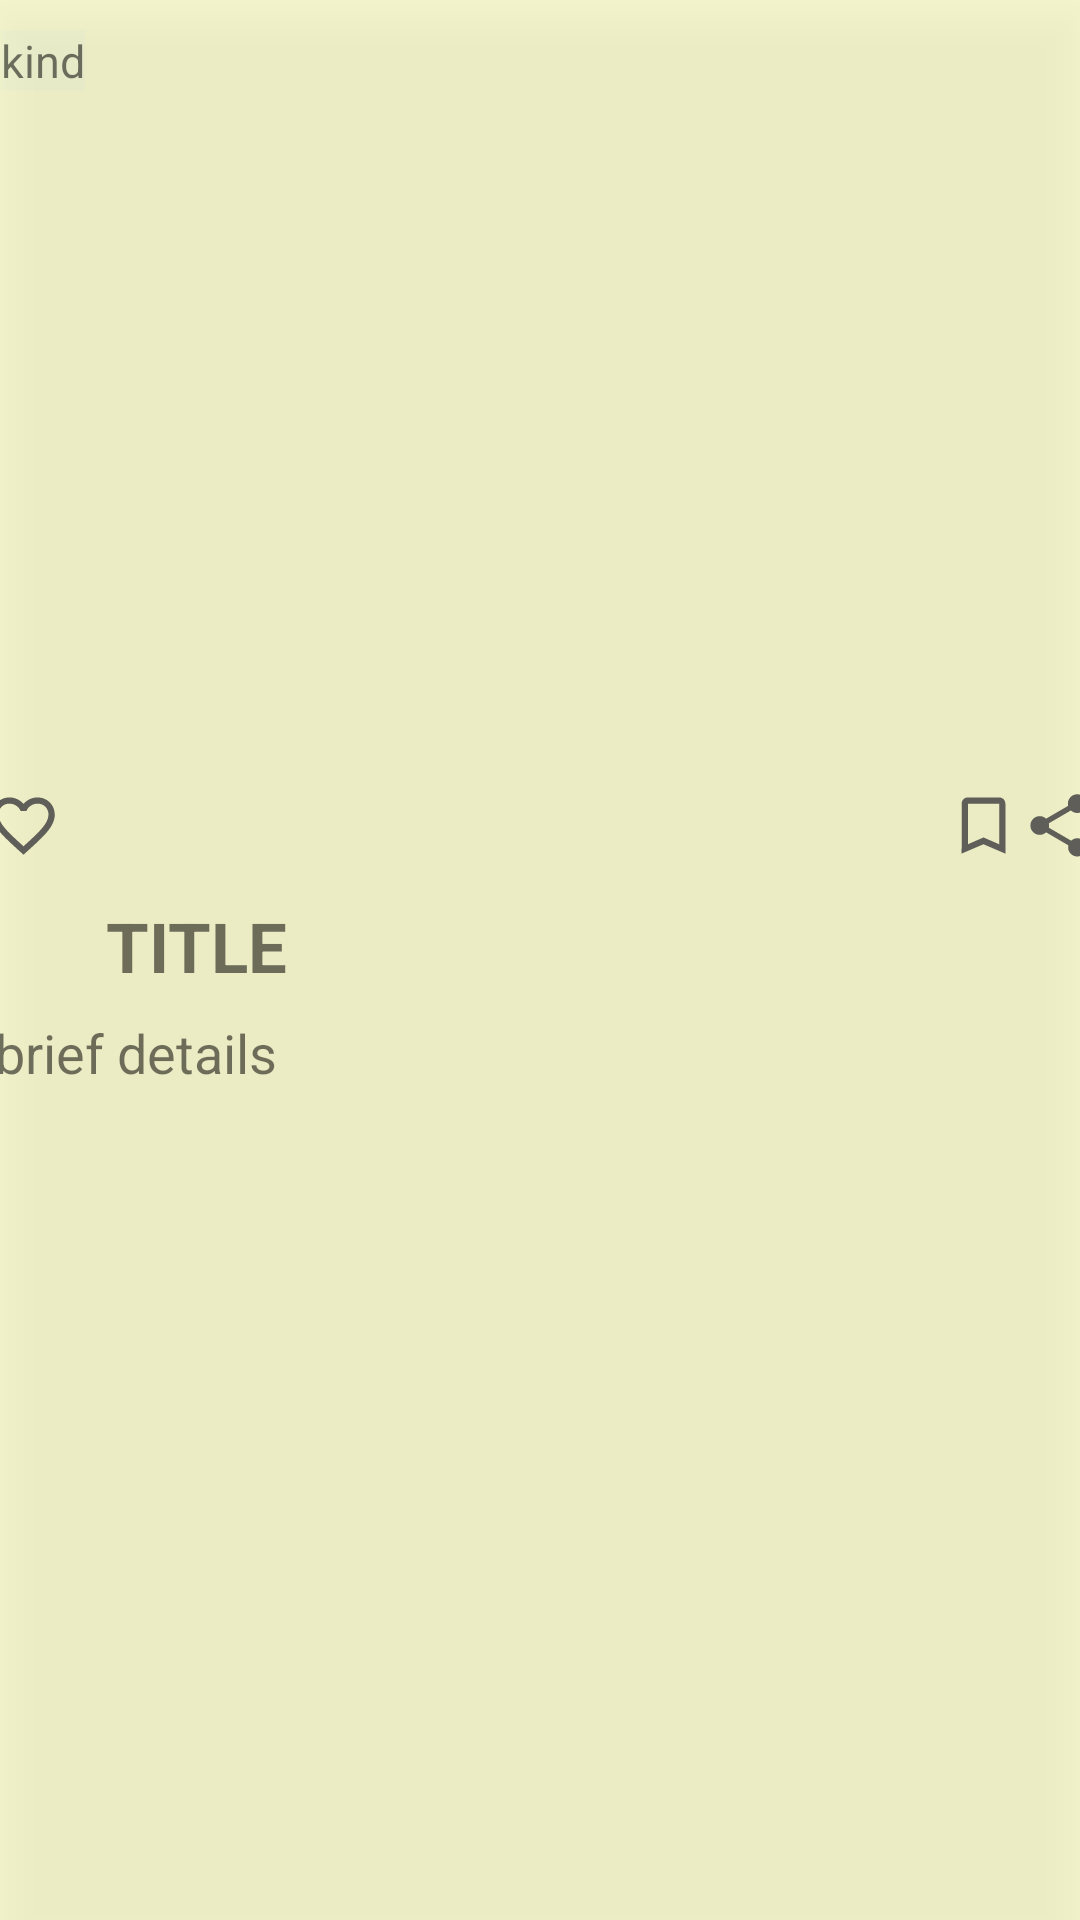

Screen size 1080×1920. Icon name, then its box in pixels as (x1, y1, x2, y2):
bookmark: (961, 797, 1006, 854)
